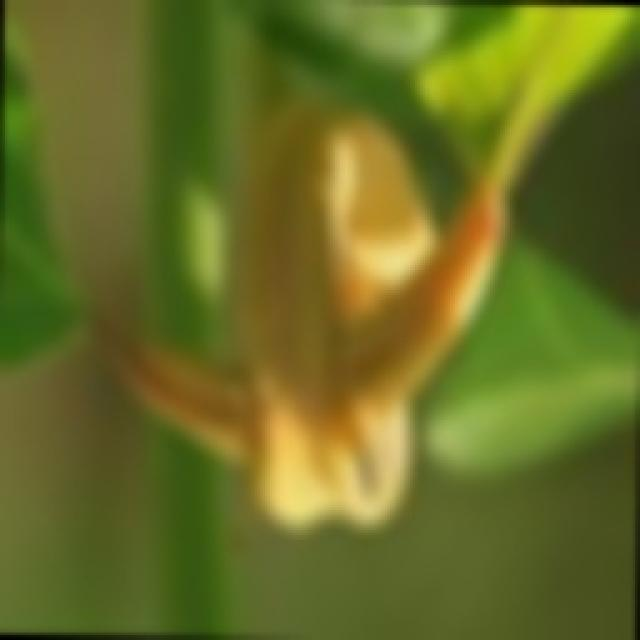Elderberry_rust: (112, 90, 510, 535)
